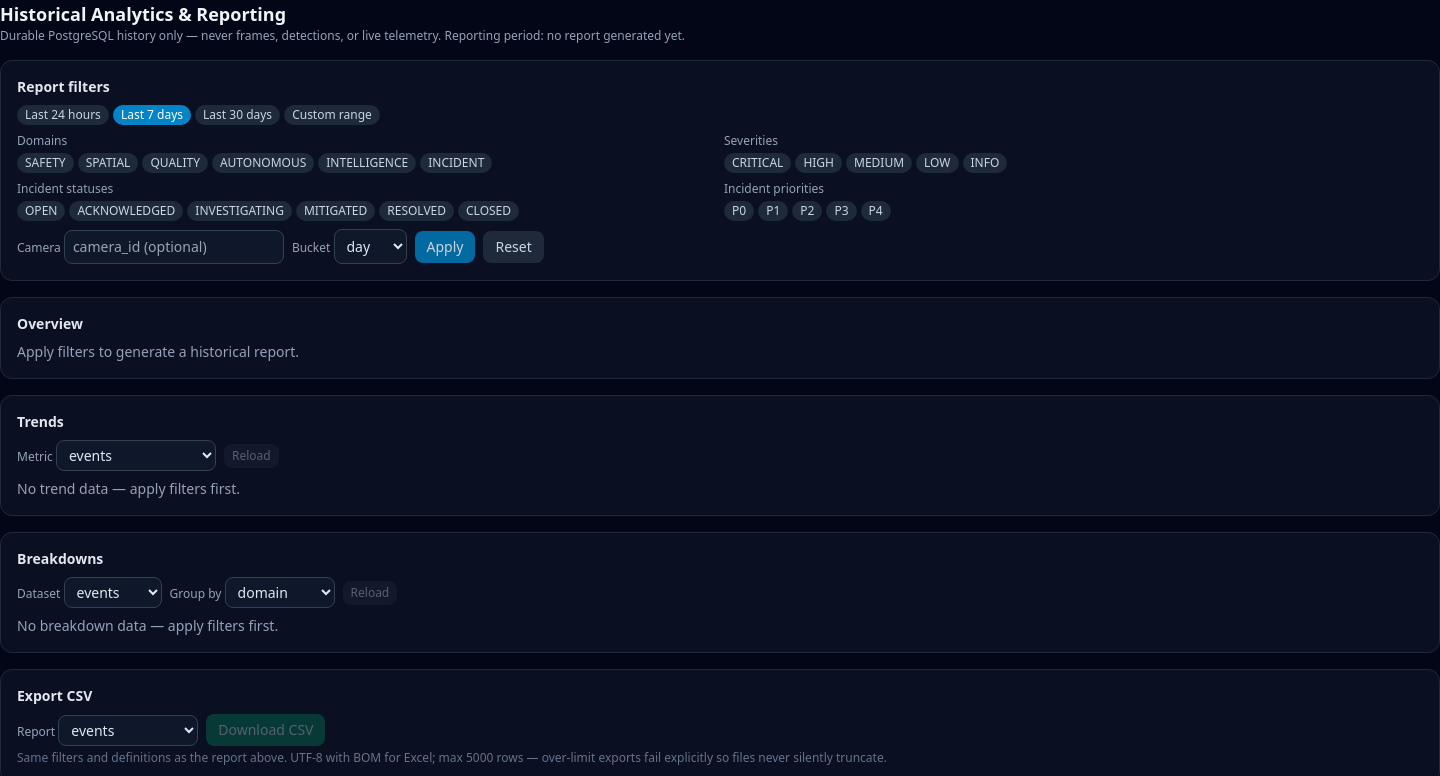
Test: AnalyticsPage › shows unavailable quality without zeros
Click the button "Apply": (445, 246) [414, 230, 475, 262]
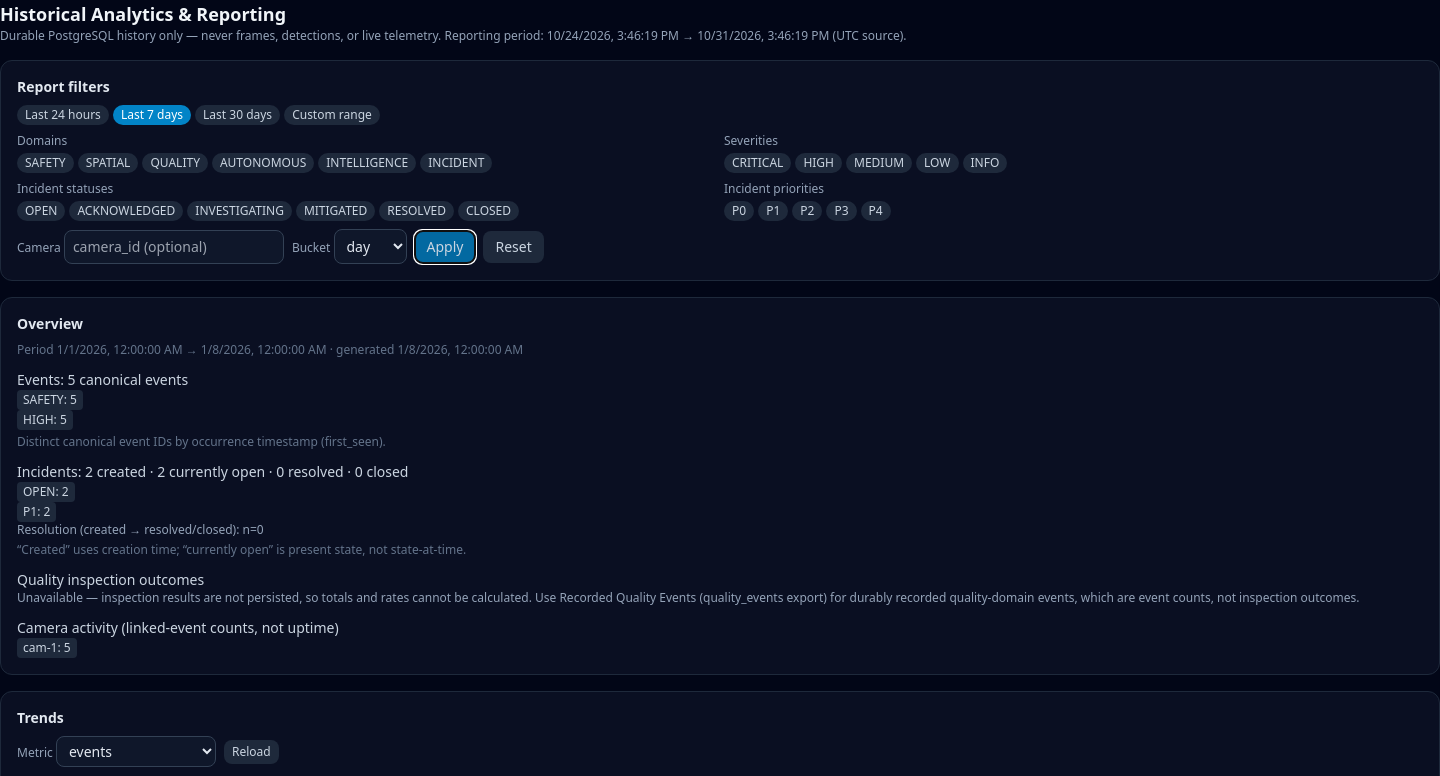
Check: the text "Quality inspection outcomes" is shown, box [17, 570, 204, 589]
Check: the text "results are not persisted" is shown, box [17, 589, 1360, 606]
